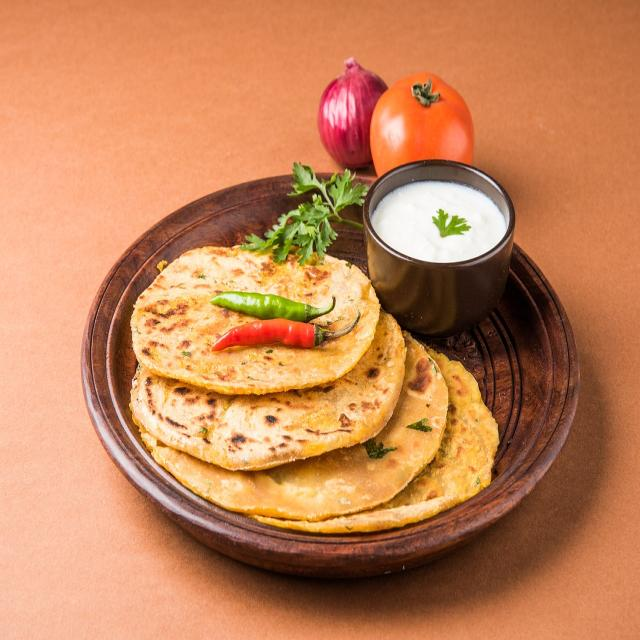Chapati: (132, 241, 498, 529)
Curd: (372, 179, 508, 262)
